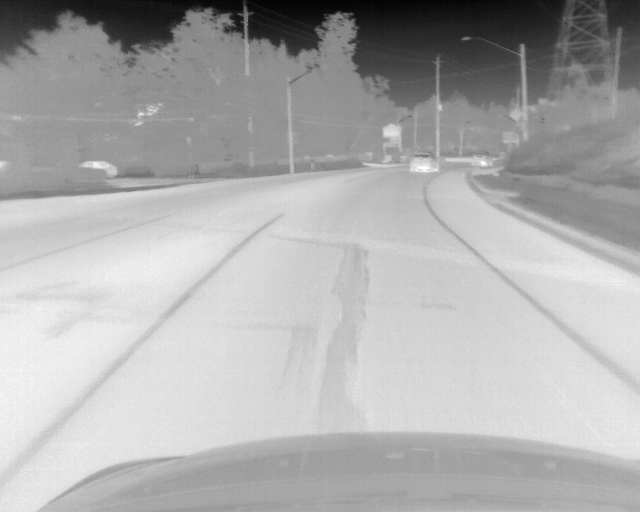car: (74, 161, 117, 181), (408, 150, 438, 176), (468, 149, 493, 169)
